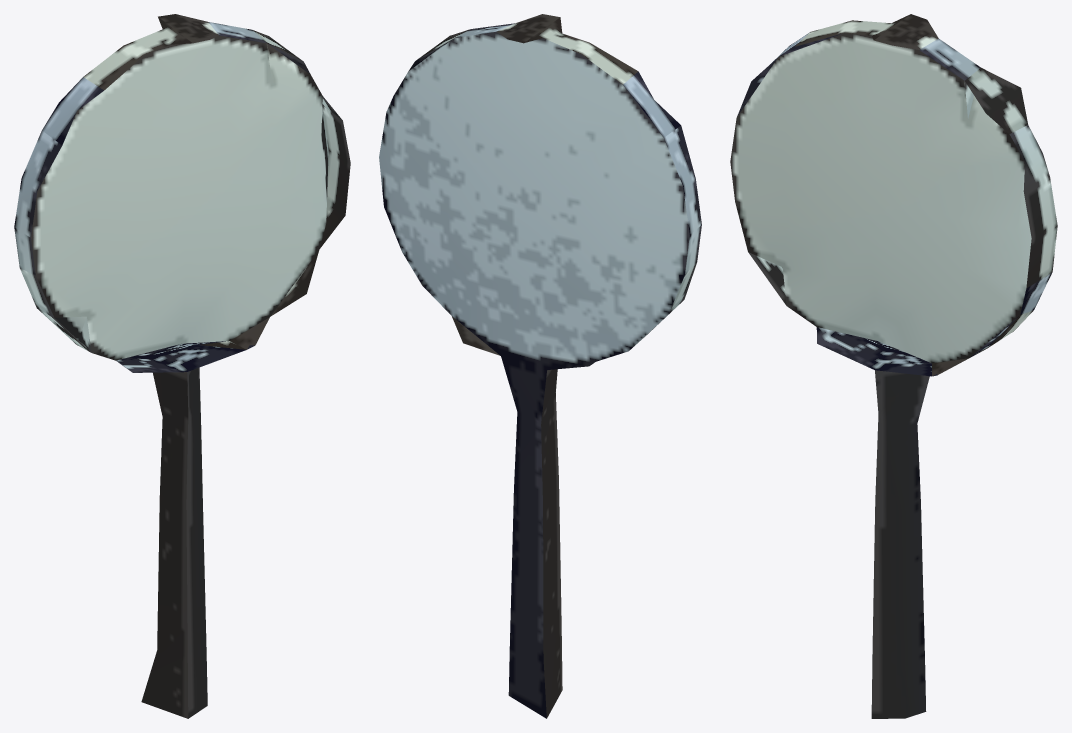
The model's file is magnifying_glass_01.glb.
The picture shows the model from 3 angles, left to right: view 1: azimuth 30°, elevation 25°; view 2: azimuth 150°, elevation 25°; view 3: azimuth 330°, elevation 25°; orthographic projection.
Visible parts, largest first — view 1: mesh; view 2: mesh; view 3: mesh.
Boxes of the visible parts, x1=… form: mesh: x1=14, y1=14, x2=350, y2=718; mesh: x1=379, y1=14, x2=701, y2=718; mesh: x1=730, y1=14, x2=1057, y2=718.
Bounding box in the file's own units: 0.1315 × 0.2716 × 0.0266.
1 material, 1 textured.
